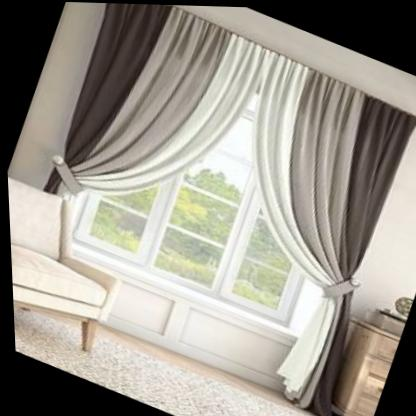Chair: (6, 168, 147, 375)
Curtains: (39, 2, 416, 416)
Nightstand: (309, 310, 402, 416)
